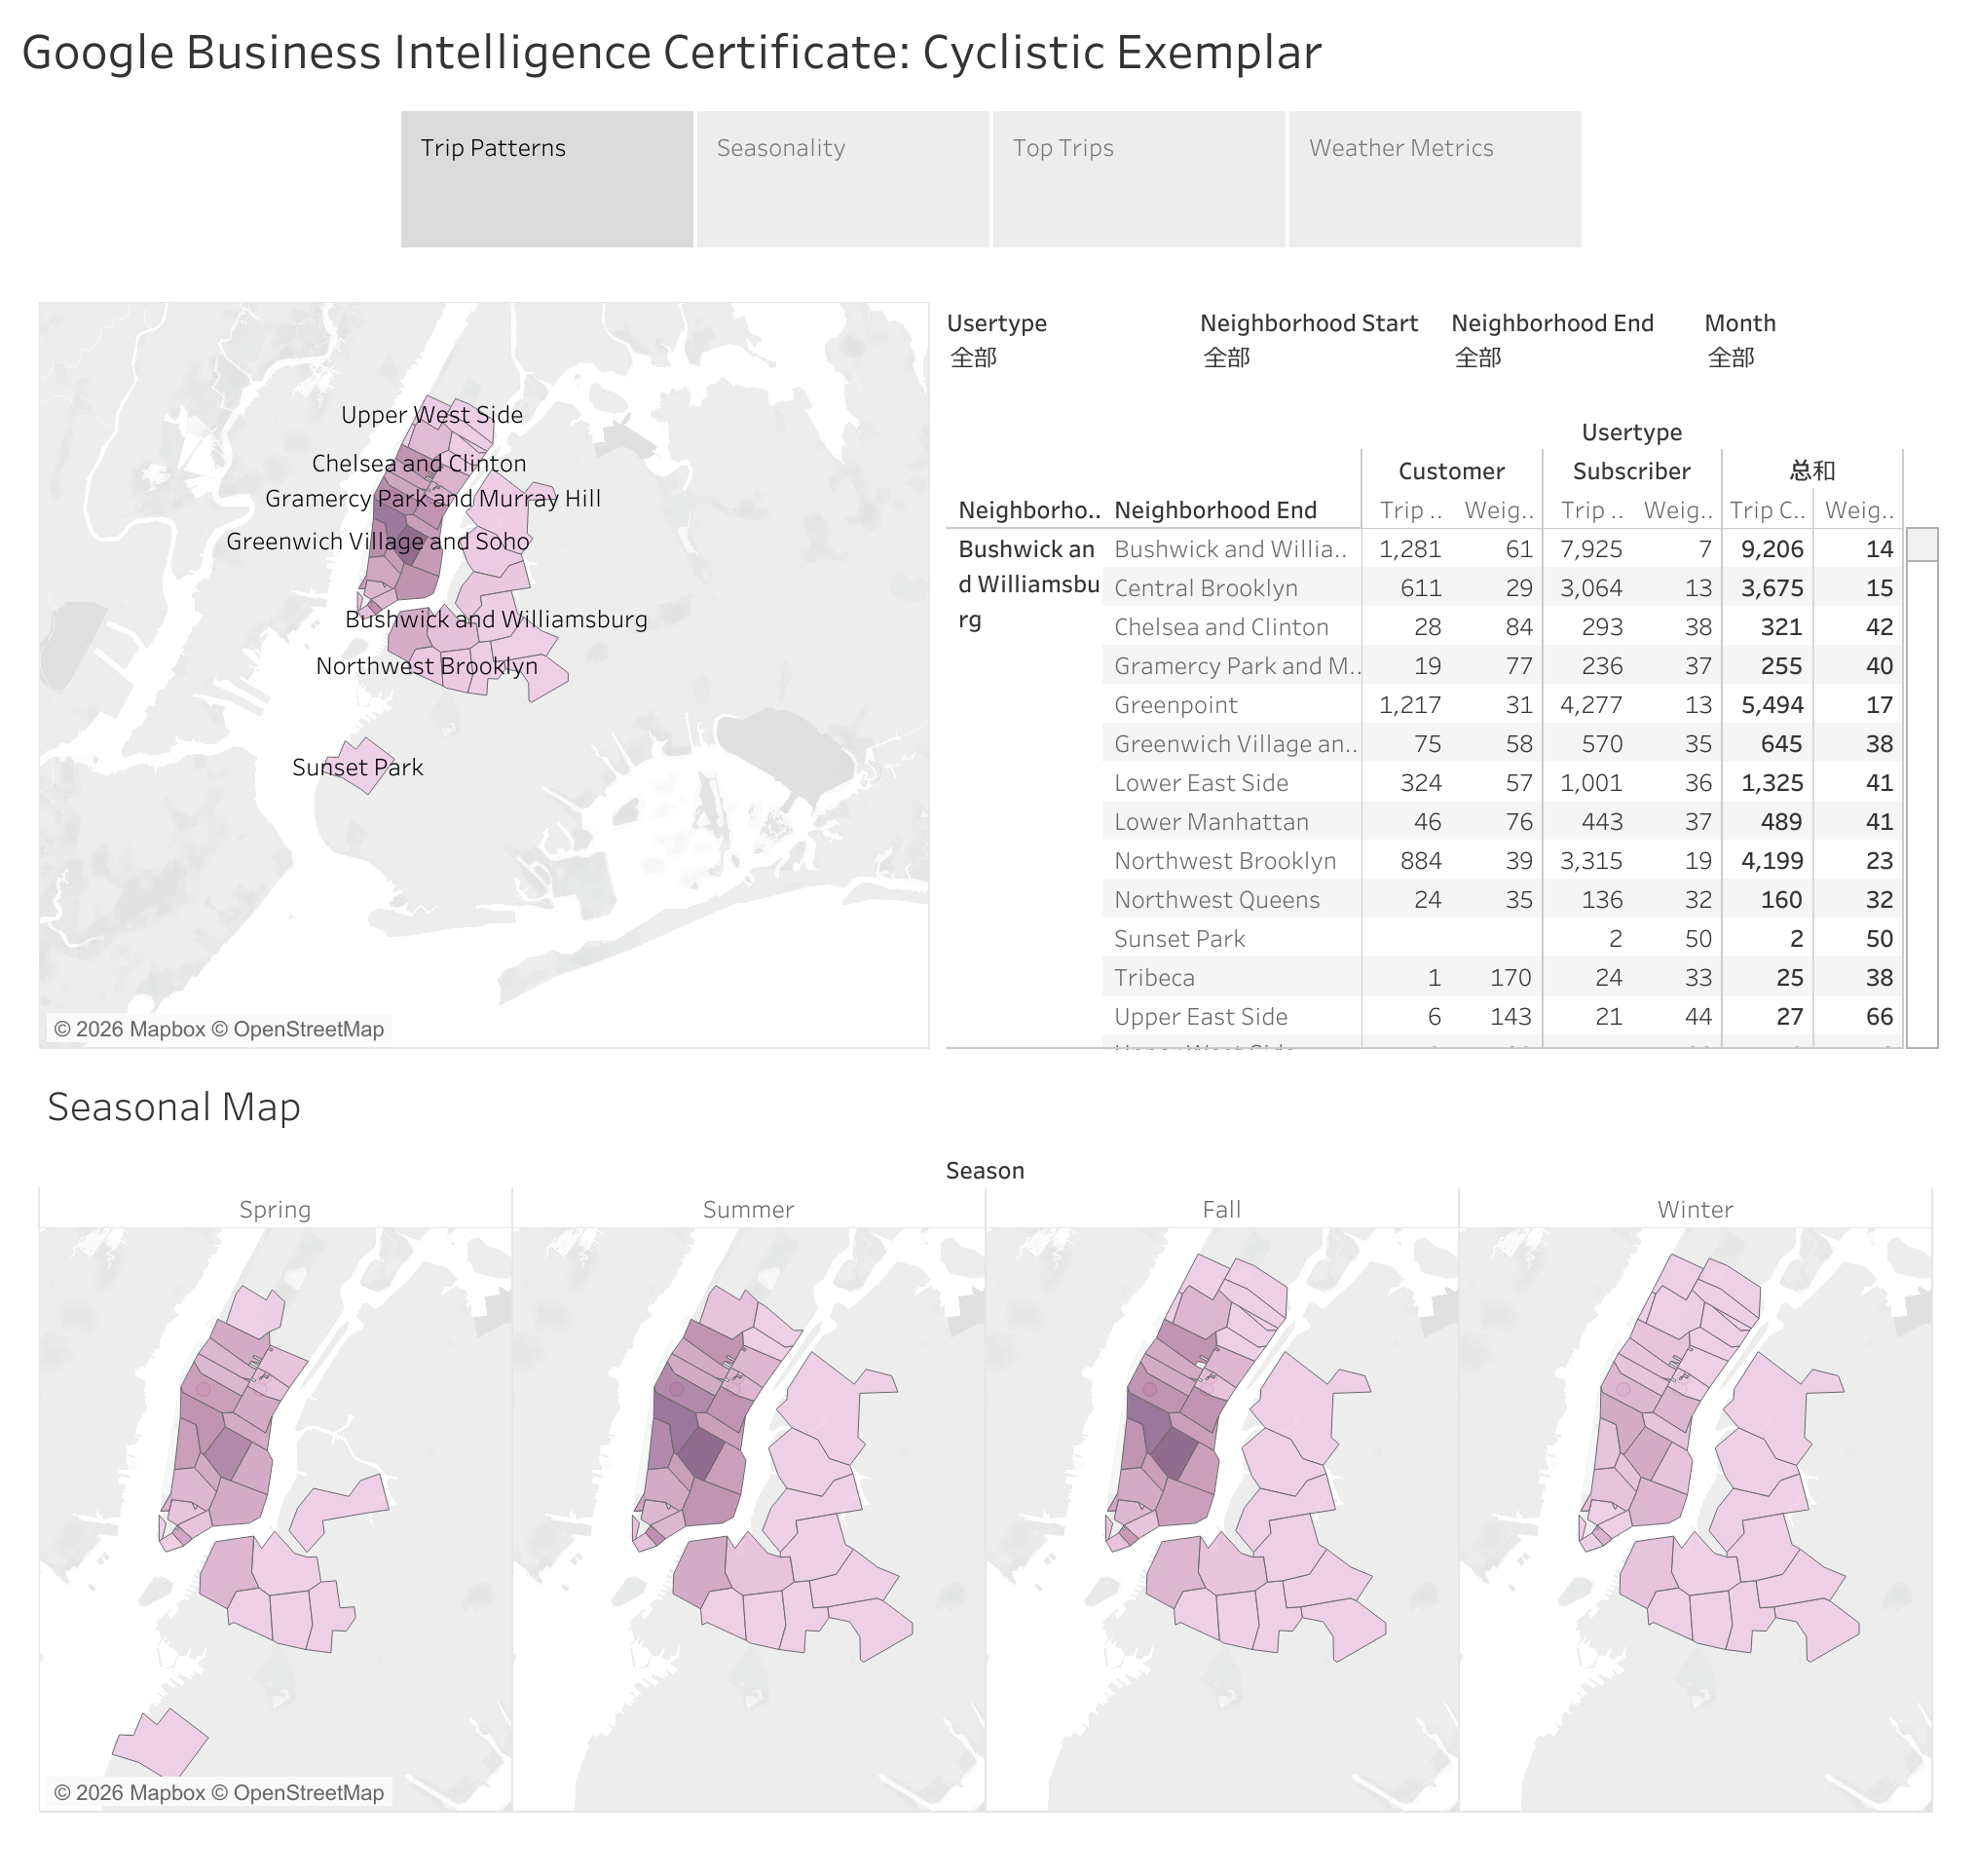

What the dashboard file says about the page in this screenshot:
{"tool":"tableau","page":{"name":"Map","canvas":[1000,800],"ordinal":0},"visuals":[{"type":"worksheet","title":"map","mark":"Multipolygon","box":[8,8,466,392]},{"type":"filter","title":"Trend Table","param":"[federated.0zyo89q1uqor3h10m2qwc033ux3r].[none:usertype:nk]","box":[474,8,129.5,56]},{"type":"filter","title":"Trend Table","param":"[federated.0zyo89q1uqor3h10m2qwc033ux3r].[none:neighborhood_start:nk]","box":[603.5,8,129.5,56]},{"type":"filter","title":"Trend Table","param":"[federated.0zyo89q1uqor3h10m2qwc033ux3r].[none:neighborhood_end:nk]","box":[733,8,129.5,56]},{"type":"filter","title":"Trend Table","param":"[federated.0zyo89q1uqor3h10m2qwc033ux3r].[none:Calculation_0014591329357829:nk]","box":[862.5,8,129.5,56]},{"type":"worksheet","title":"Trend Table","mark":"Automatic","rows":["neighborhood_start","neighborhood_end"],"cols":["usertype"],"box":[474,64,518,336]},{"type":"worksheet","title":"Seasonal Map","mark":"Automatic","cols":["Calculation_0014591313846336"],"box":[8,400,984,392]}]}

Visuals, with their boxes on the page's 1000x800 design canvas (x1, y1, x2, y2). These are canvas units, not pixel positions in the 1977x1876 screenshot, which may show the page scaled, cropped or inside an application window:
"map" worksheet (Multipolygon marks): (x1=8, y1=8, x2=474, y2=400)
"Trend Table" filter: (x1=474, y1=8, x2=604, y2=64)
"Trend Table" filter: (x1=604, y1=8, x2=733, y2=64)
"Trend Table" filter: (x1=733, y1=8, x2=862, y2=64)
"Trend Table" filter: (x1=862, y1=8, x2=992, y2=64)
"Trend Table" worksheet: (x1=474, y1=64, x2=992, y2=400)
"Seasonal Map" worksheet: (x1=8, y1=400, x2=992, y2=792)
